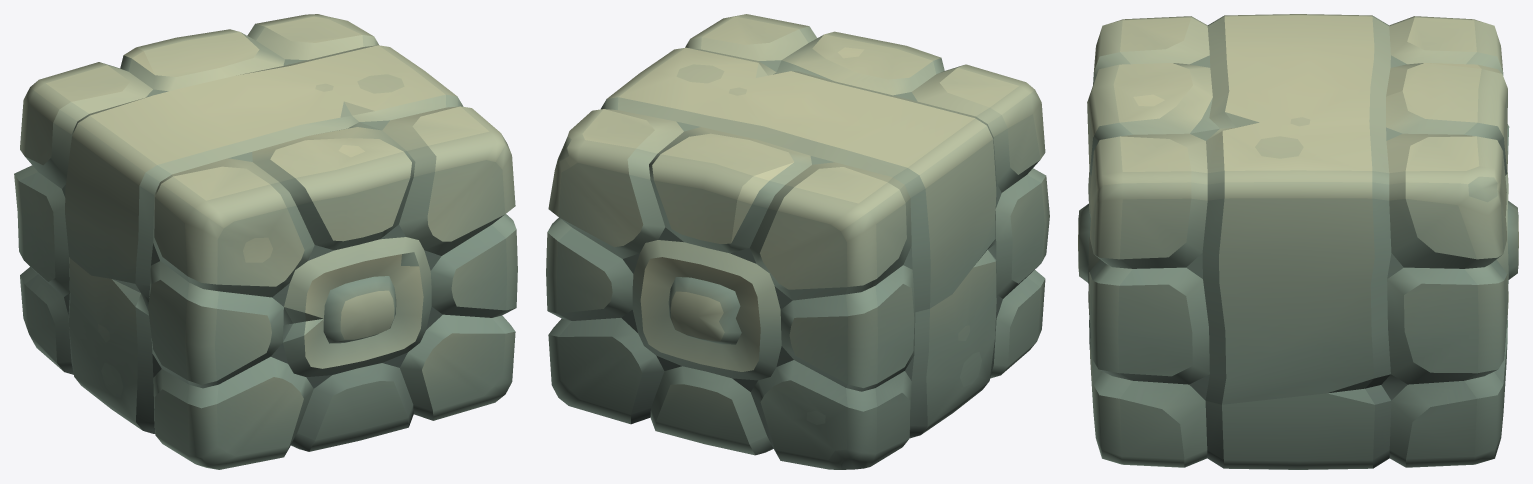
Rendered from stone_cubes1.fbx.
The picture shows the model from 3 angles, left to right: view 1: azimuth 30°, elevation 25°; view 2: azimuth 150°, elevation 25°; view 3: azimuth 270°, elevation 25°; orthographic projection. The views are drawn at different scales.
Visible parts, largest first — view 1: stone_cubes1; view 2: stone_cubes1; view 3: stone_cubes1.
Part boxes in pixels (x1,y1,x2,y2): stone_cubes1: [14, 14, 517, 469]; stone_cubes1: [546, 14, 1049, 469]; stone_cubes1: [1078, 14, 1518, 469].
Bounding box in the file's own units: 221 × 175 × 228.
Materials: 1 (1 with a texture image).
